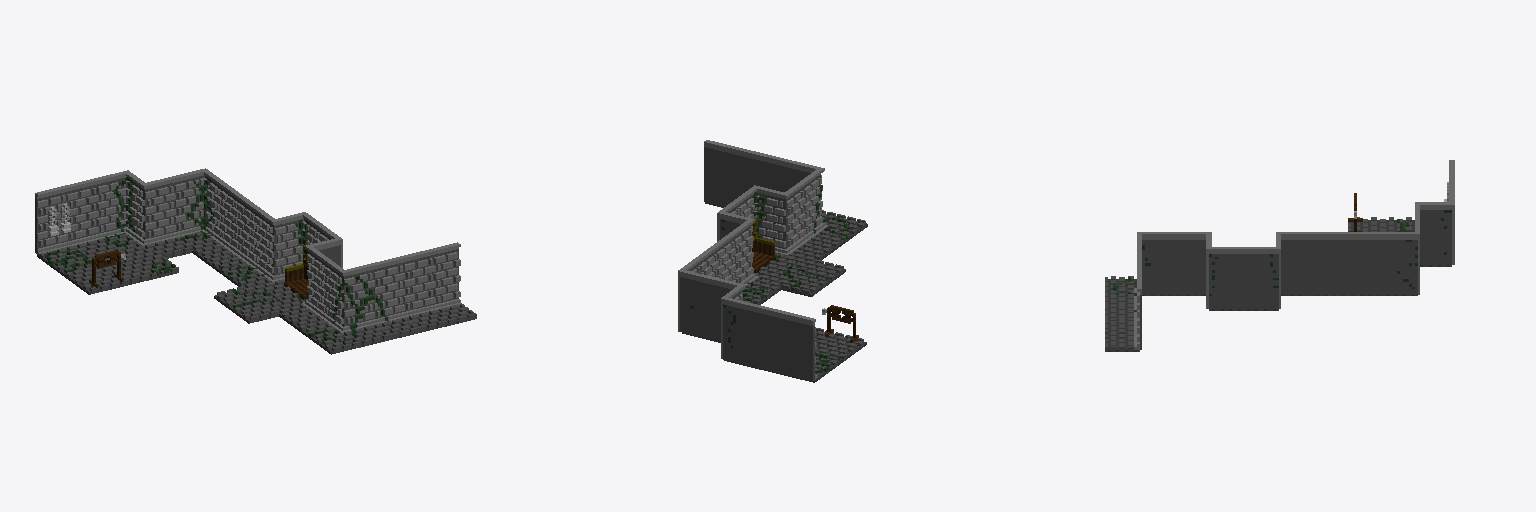
3 views of the same model, side by side, from view 1: azimuth 30°, elevation 25°; view 2: azimuth 150°, elevation 25°; view 3: azimuth 270°, elevation 25° (orthographic).
Bounding box in the file's own units: 106 × 24 × 121.
1 materials, 1 textured.